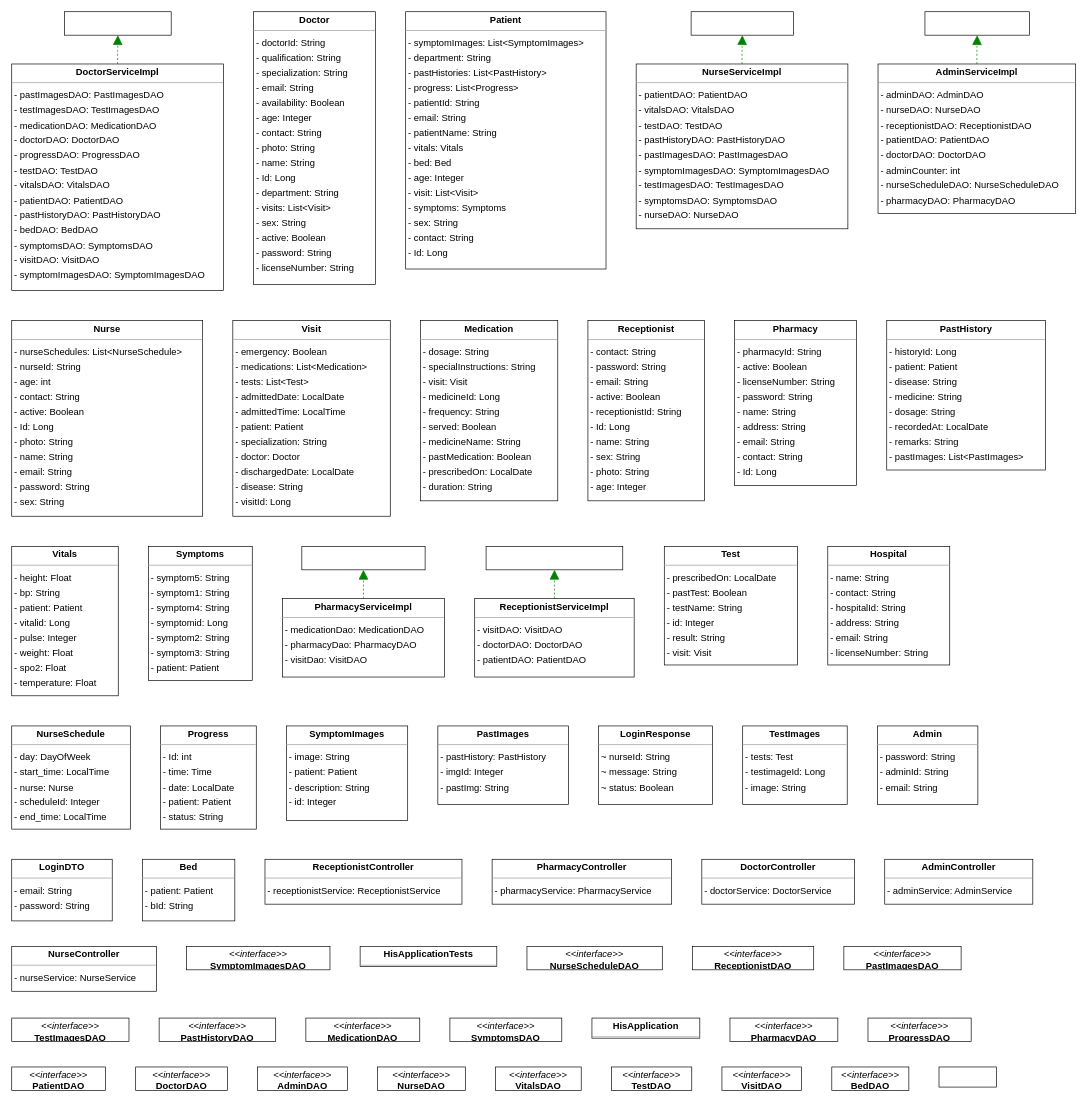
Image size: 1087x1102. Some labels were removed from this diagram. The shapes that lost their labels are listed below. From the top down, each one's box as (x1, y1, x2, y2) in pixels, then its label:
(64, 11, 171, 35): <<interface>> DoctorService
(690, 11, 794, 35): <<interface>> NurseService
(924, 11, 1029, 35): <<interface>> AdminService
(301, 546, 425, 570): <<interface>> PharmacyService
(485, 546, 623, 570): <<interface>> ReceptionistService
(938, 1066, 997, 1087): Cors
